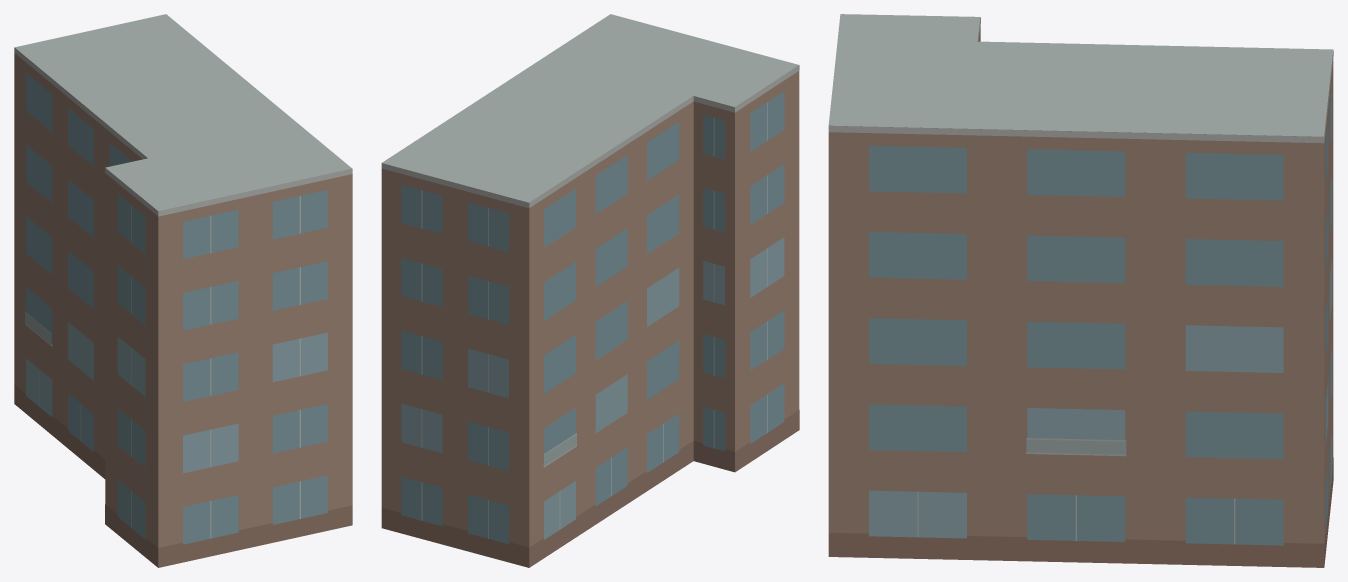
The model's file is survey-upis-32773468.glb.
3 views of the same model, side by side, from view 1: azimuth 30°, elevation 25°; view 2: azimuth 150°, elevation 25°; view 3: azimuth 270°, elevation 25° (orthographic). The views are drawn at different scales.
Visible parts, largest first — view 1: survey-upis-32773468.tmp; view 2: survey-upis-32773468.tmp; view 3: survey-upis-32773468.tmp.
Boxes of the visible parts, bbox=[...] form: survey-upis-32773468.tmp: bbox=[14, 14, 352, 567]; survey-upis-32773468.tmp: bbox=[381, 14, 799, 567]; survey-upis-32773468.tmp: bbox=[828, 14, 1333, 567].
Size of the model in its own units: 9.91 by 16.21 by 17.21.
